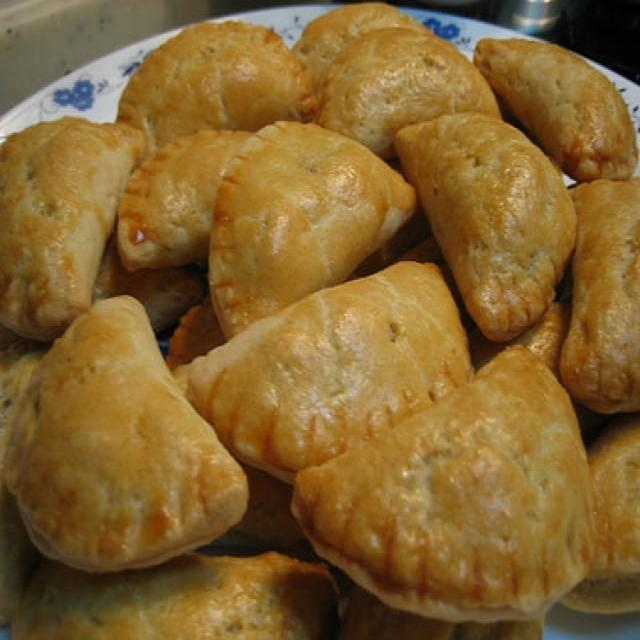炸货点心: (22, 36, 626, 613)
